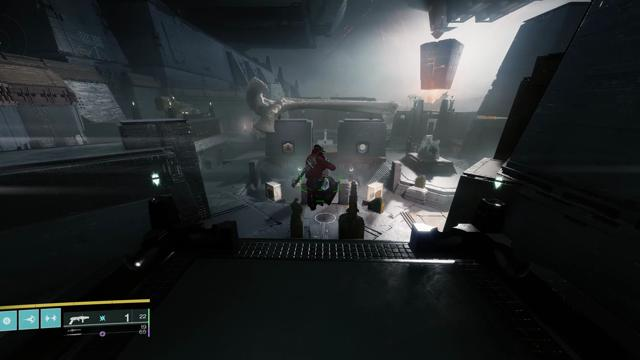pyramid: (283, 143, 294, 154)
traveler: (357, 143, 368, 154)
